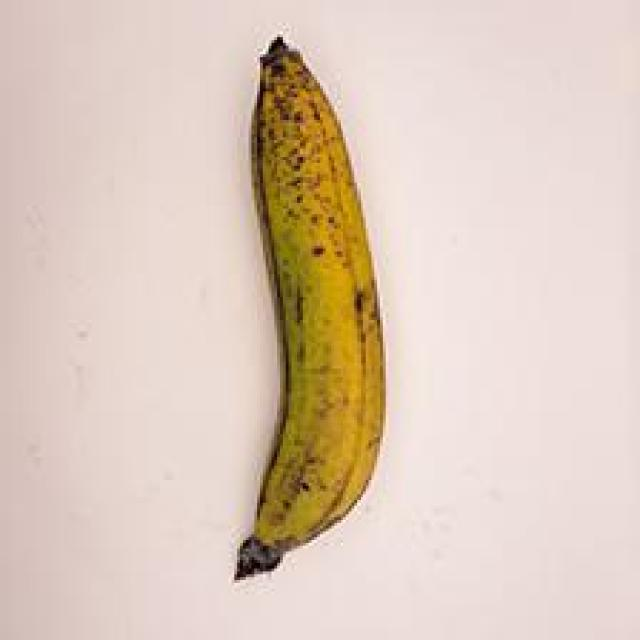Overripe: (159, 20, 416, 600)
